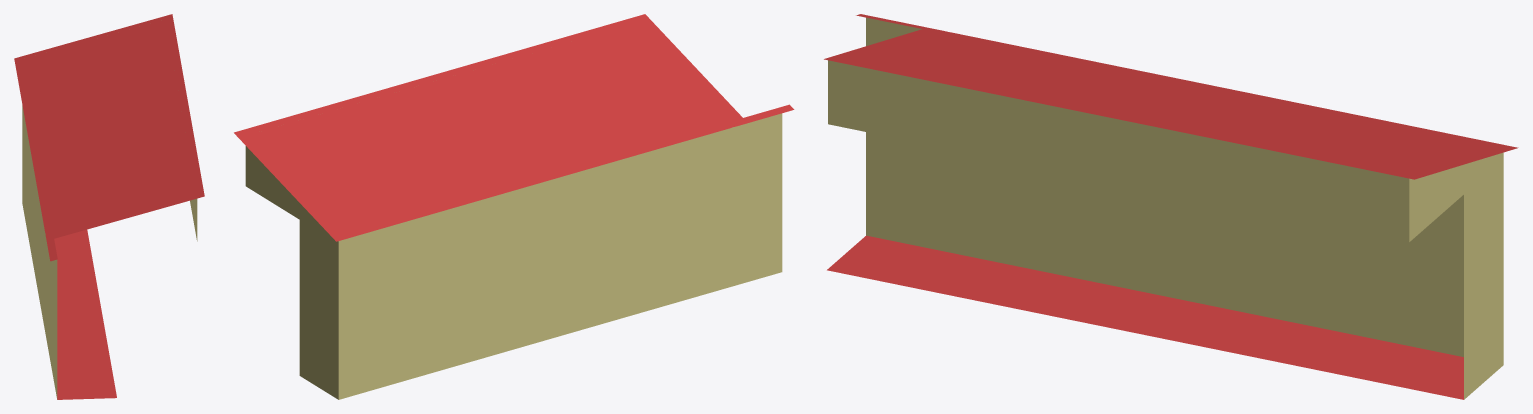
The picture shows the model from 3 angles, left to right: view 1: azimuth 30°, elevation 25°; view 2: azimuth 150°, elevation 25°; view 3: azimuth 270°, elevation 25°; orthographic projection. The views are drawn at different scales.
Bounding box in the file's own units: 11.63 × 15.17 × 6.61.
